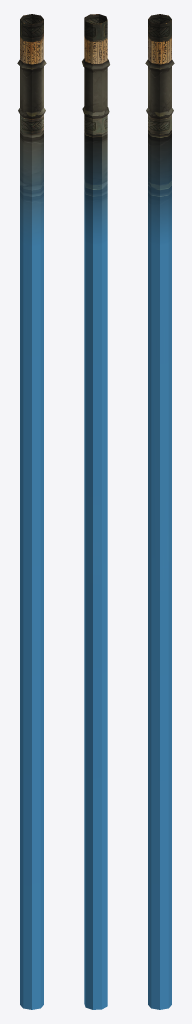
Rendered from Pillar.fbx.
3 views of the same model, side by side, from view 1: azimuth 90°, elevation 25°; view 2: azimuth 210°, elevation 25°; view 3: azimuth 270°, elevation 25° (orthographic).
Visible parts, largest first — view 1: Pillar; view 2: Pillar; view 3: Pillar.
Part boxes in pixels (<box>): Pillar: <box>17,14,46,1009</box>; Pillar: <box>82,14,109,1009</box>; Pillar: <box>145,14,174,1009</box>.
Bounding box in the file's own units: 142 × 5246 × 142.
